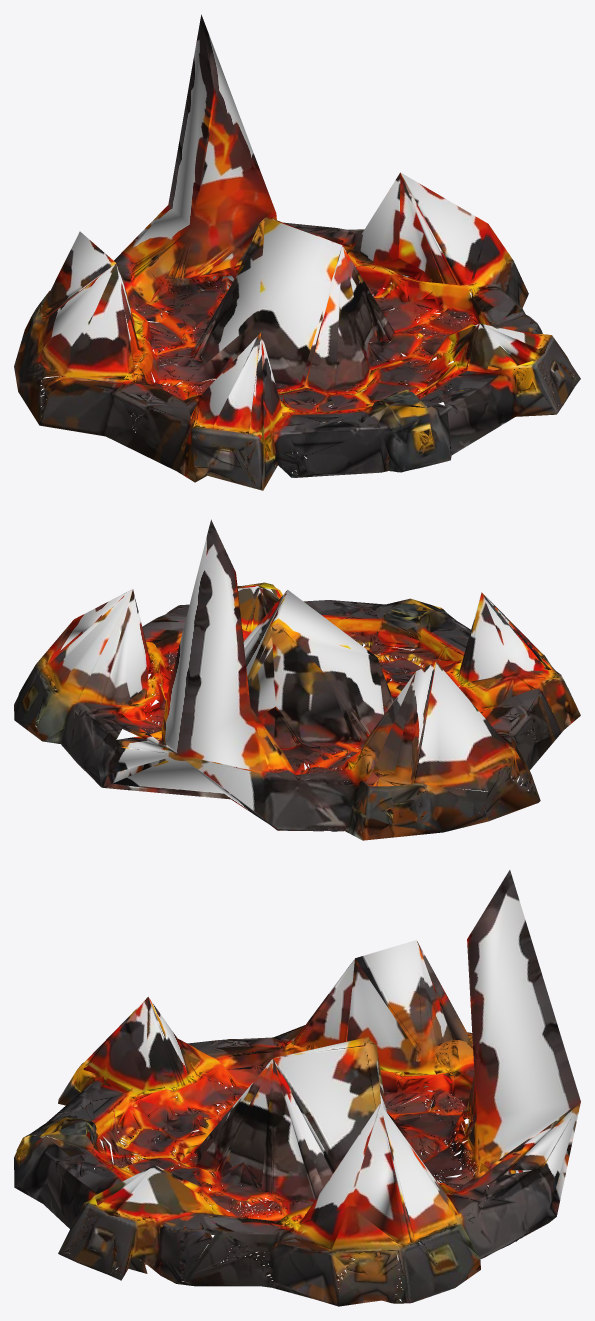
Rendered from bld_altar.glb.
3 renders of one model, top to bottom at view 1: azimuth 30°, elevation 25°; view 2: azimuth 150°, elevation 25°; view 3: azimuth 270°, elevation 25°, orthographic. The views are drawn at different scales.
Parts seen in each view (by area): view 1: BakeLow; view 2: BakeLow; view 3: BakeLow.
Boxes of the visible parts, <box> form: BakeLow: <box>14,14,580,490</box>; BakeLow: <box>14,519,580,840</box>; BakeLow: <box>14,870,580,1306</box>.
Bounding box in the file's own units: 0.9612 × 0.5404 × 0.8781.
Materials: 1 (1 with a texture image).
